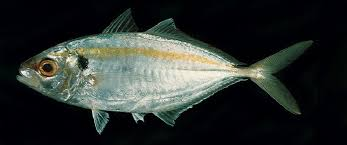Ikan Selar: (14, 14, 318, 136)
